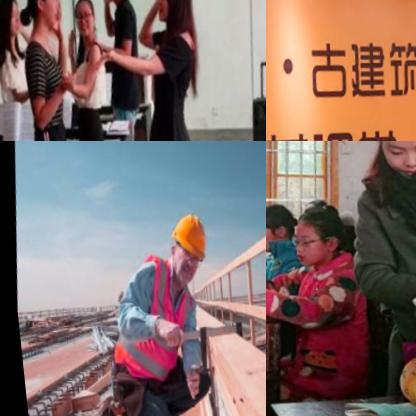head: (284, 204, 348, 273), (365, 141, 416, 188), (146, 0, 197, 36), (266, 202, 296, 253), (65, 0, 98, 44), (19, 0, 61, 32), (0, 0, 26, 45)
helmet: (157, 209, 212, 294)
